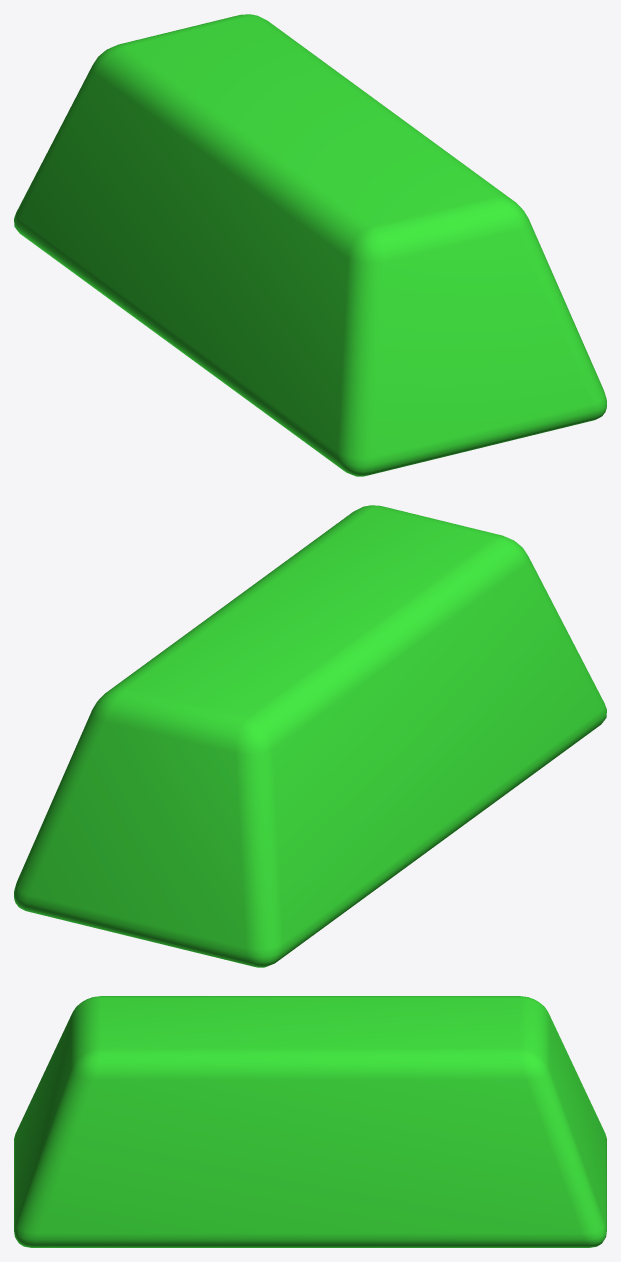
File: RIngot.fbx
3 views of the same model, one above another, from view 1: azimuth 30°, elevation 25°; view 2: azimuth 150°, elevation 25°; view 3: azimuth 270°, elevation 25° (orthographic). The views are drawn at different scales.
Parts seen in each view (by area): view 1: Rainbow Ingot; view 2: Rainbow Ingot; view 3: Rainbow Ingot.
Boxes of the visible parts, x1,y1,x2,y2 form: Rainbow Ingot: (14, 14, 606, 476); Rainbow Ingot: (14, 505, 606, 967); Rainbow Ingot: (14, 996, 606, 1247).
Size of the model in its own units: 96.45 by 71.01 by 219.
